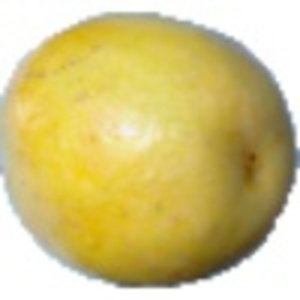maracujá: (1, 11, 300, 290)
